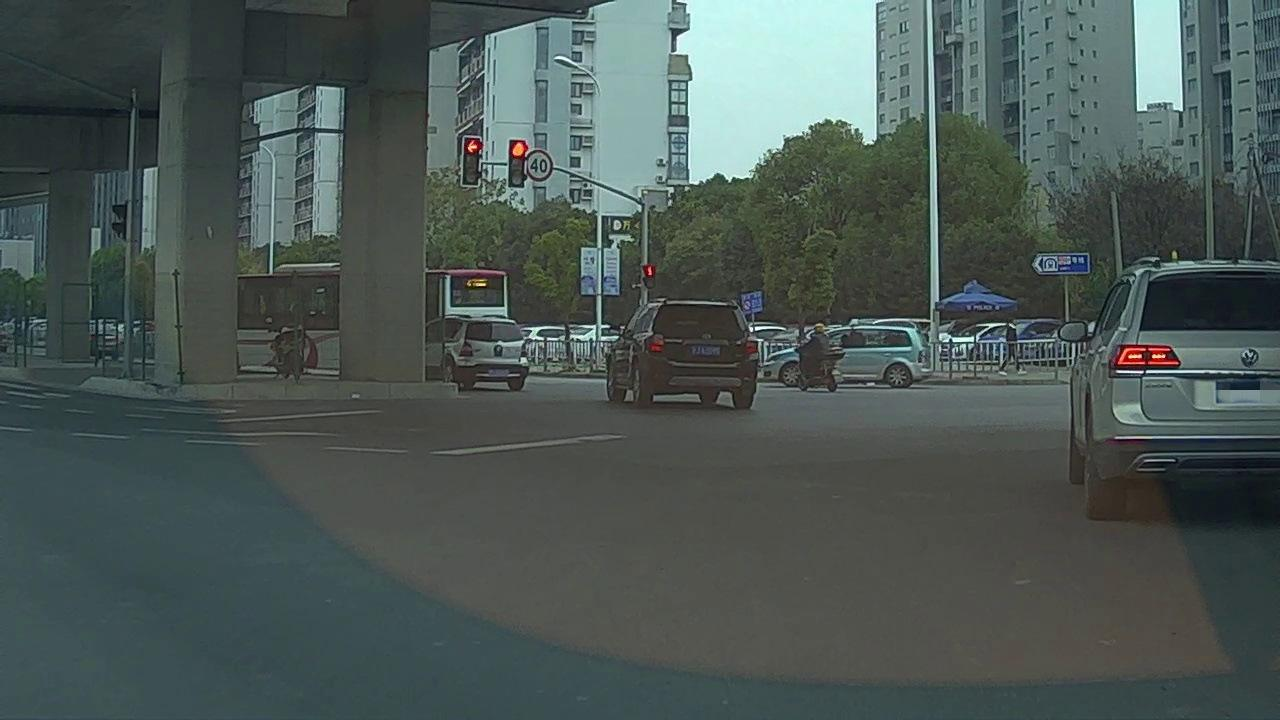traffic_light: (464, 137, 479, 185), (510, 140, 525, 186)
